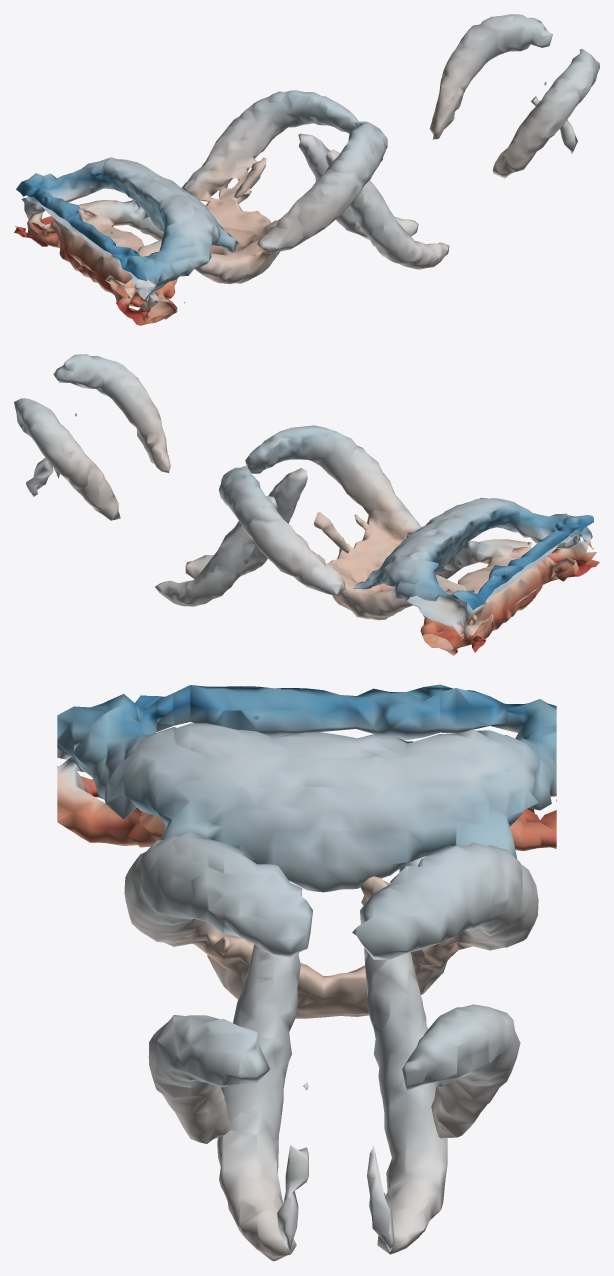
The picture shows the model from 3 angles, top to bottom: view 1: azimuth 30°, elevation 25°; view 2: azimuth 150°, elevation 25°; view 3: azimuth 270°, elevation 25°; orthographic projection. The views are drawn at different scales.
Bounding box in the file's own units: 5.79 × 2.05 × 2.5.
